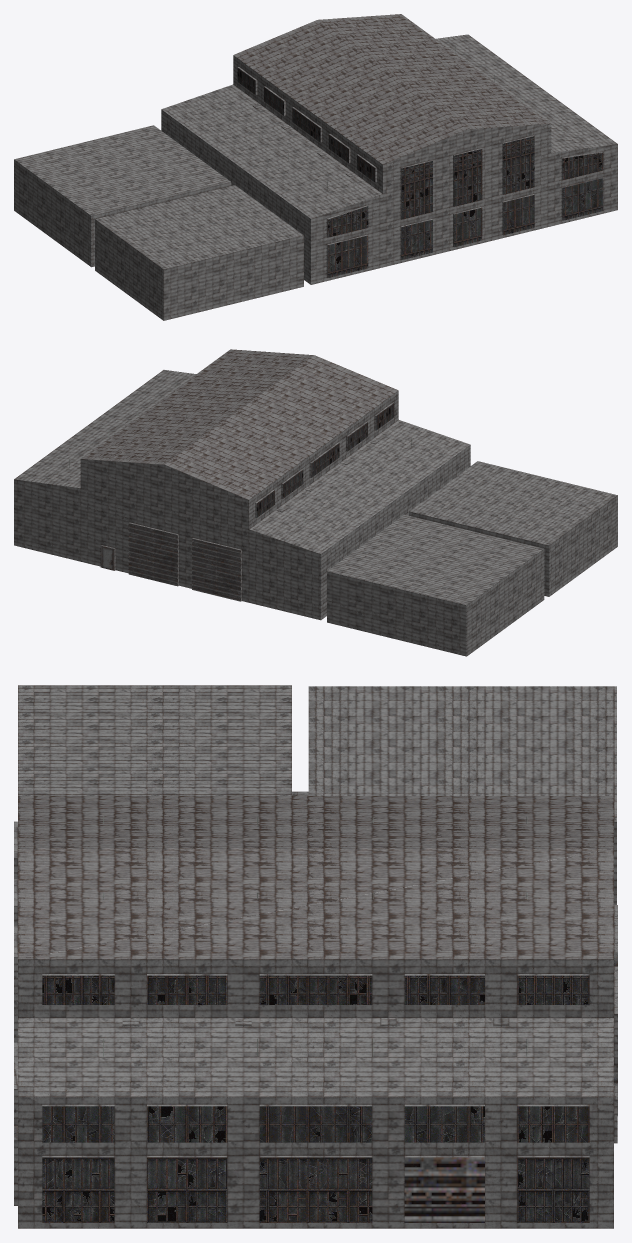
Rendered from The Call Updated 4.fbx.
3 renders of one model, top to bottom at view 1: azimuth 30°, elevation 25°; view 2: azimuth 150°, elevation 25°; view 3: azimuth 270°, elevation 25°, orthographic. The views are drawn at different scales.
Visible parts, largest first — view 1: Warehouse-col; view 2: Warehouse-col; view 3: Warehouse-col.
Part boxes in pixels (left/top/right/bottom): Warehouse-col: left=14, top=14, right=617, bottom=320; Warehouse-col: left=14, top=349, right=617, bottom=656; Warehouse-col: left=14, top=685, right=617, bottom=1228.
Size of the model in its own units: 8156 by 2008 by 4703.
Materials: 9 (7 with a texture image).
